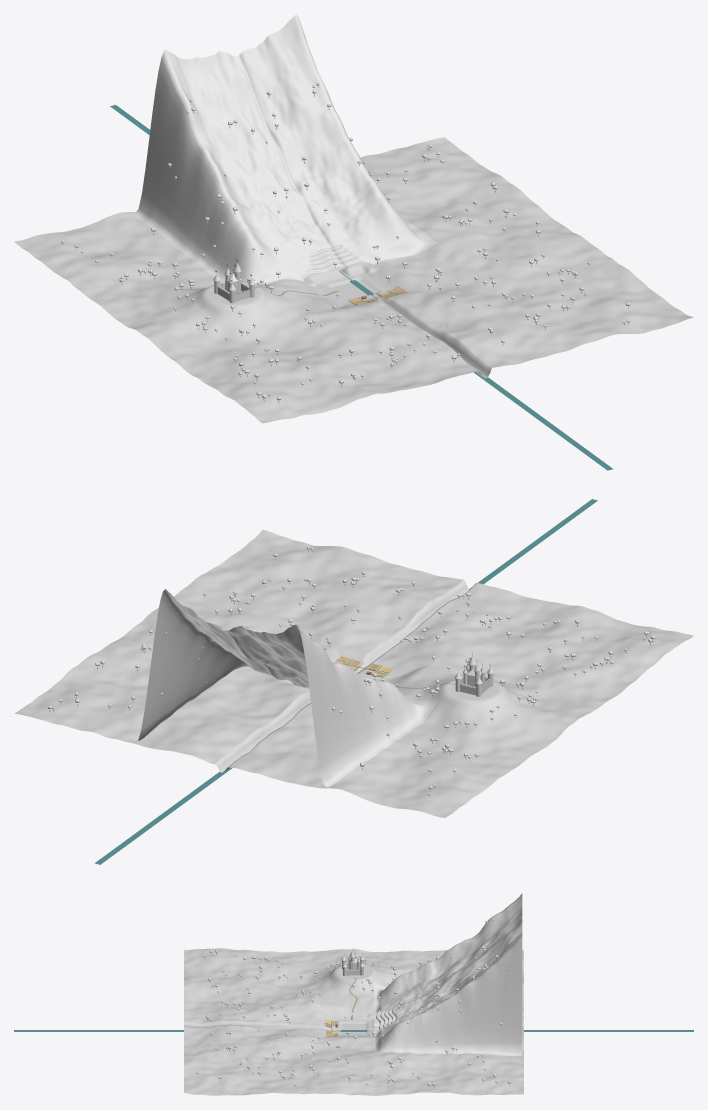
File: distant.glb
3 views of the same model, one above another, from view 1: azimuth 30°, elevation 25°; view 2: azimuth 150°, elevation 25°; view 3: azimuth 270°, elevation 25° (orthographic). The views are drawn at different scales.
Visible parts, largest first — view 1: DS_Terrain, MT_Slope, DS_RiverFar, DS_Castle; view 2: DS_Terrain, MT_Slope, DS_RiverFar, DS_Castle; view 3: DS_Terrain, MT_Slope, DS_RiverFar, DS_Castle.
Part boxes in pixels (box(x1,y1,x2,y2)): DS_Terrain: box(14, 137, 693, 423); MT_Slope: box(132, 14, 437, 284); DS_RiverFar: box(110, 105, 613, 470); DS_Castle: box(213, 259, 255, 303); DS_Terrain: box(14, 530, 693, 817); MT_Slope: box(132, 589, 437, 787); DS_RiverFar: box(94, 499, 597, 864); DS_Castle: box(454, 653, 494, 696); DS_Terrain: box(184, 948, 523, 1095); MT_Slope: box(374, 893, 522, 1056); DS_RiverFar: box(14, 1030, 693, 1031); DS_Castle: box(341, 948, 364, 975).
Bounding box in the file's own units: 1000 × 376 × 2000.
